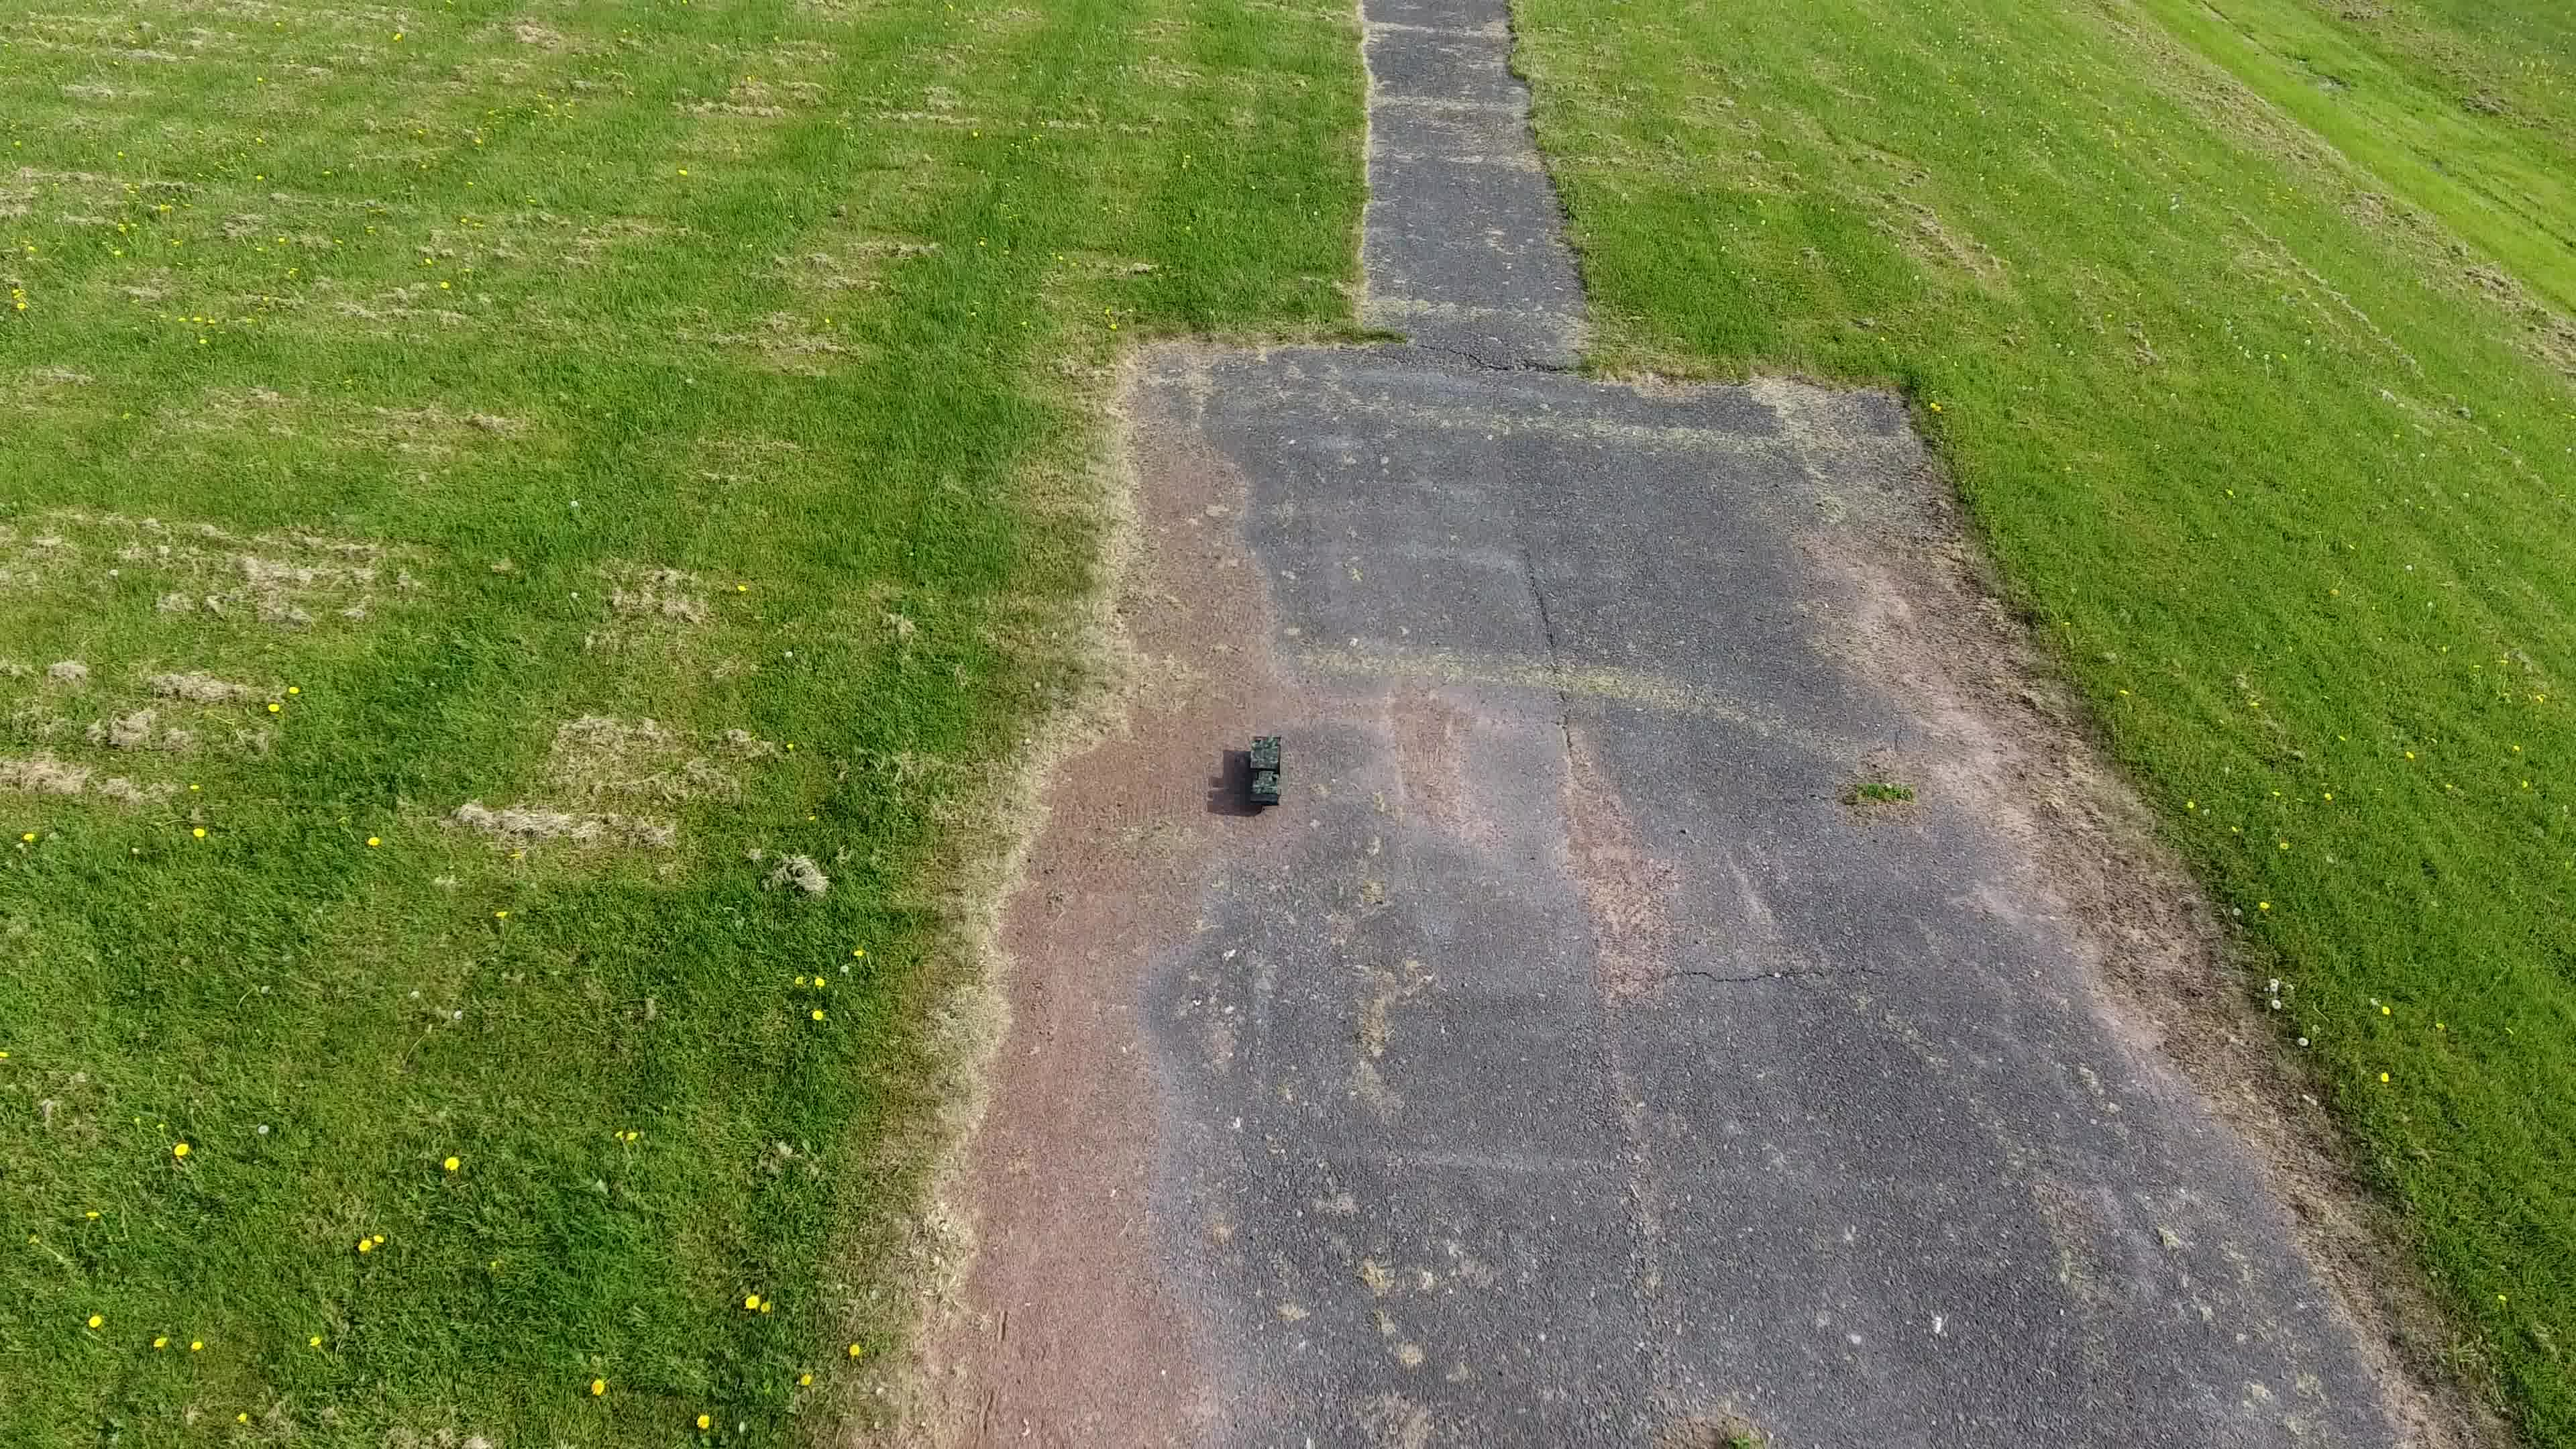transporter9: (1246, 732, 1284, 809)
